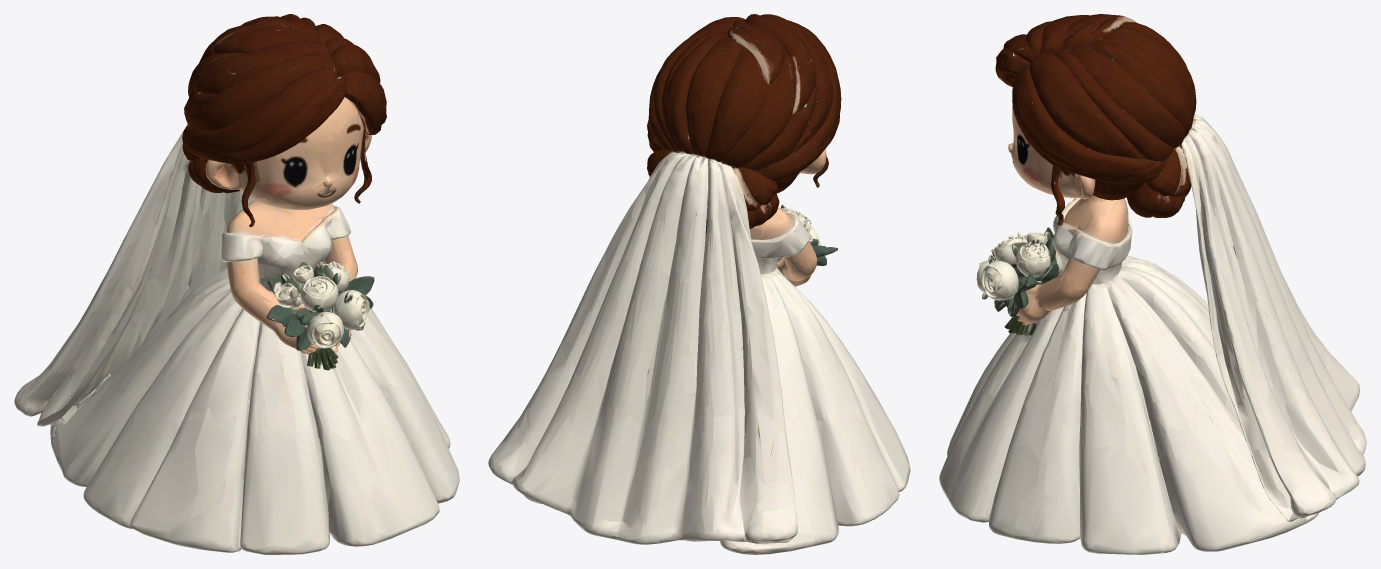
The model's file is upm_mv3pqynt2zn.glb.
The picture shows the model from 3 angles, left to right: view 1: azimuth 30°, elevation 25°; view 2: azimuth 150°, elevation 25°; view 3: azimuth 270°, elevation 25°; orthographic projection. The views are drawn at different scales.
Bounding box in the file's own units: 1.33 × 1.9 × 1.48.
1 material, 1 textured.
